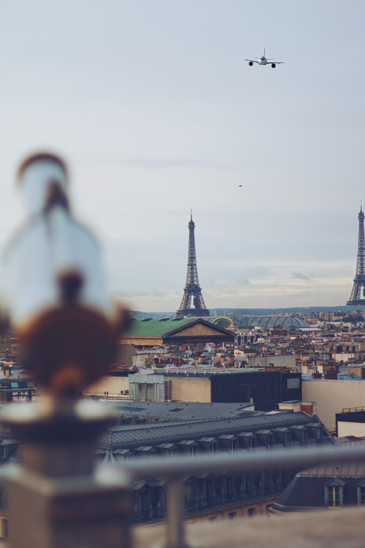copymove: (314, 200, 365, 309)
removal: (227, 297, 243, 328)
spliced: (242, 47, 283, 73)
